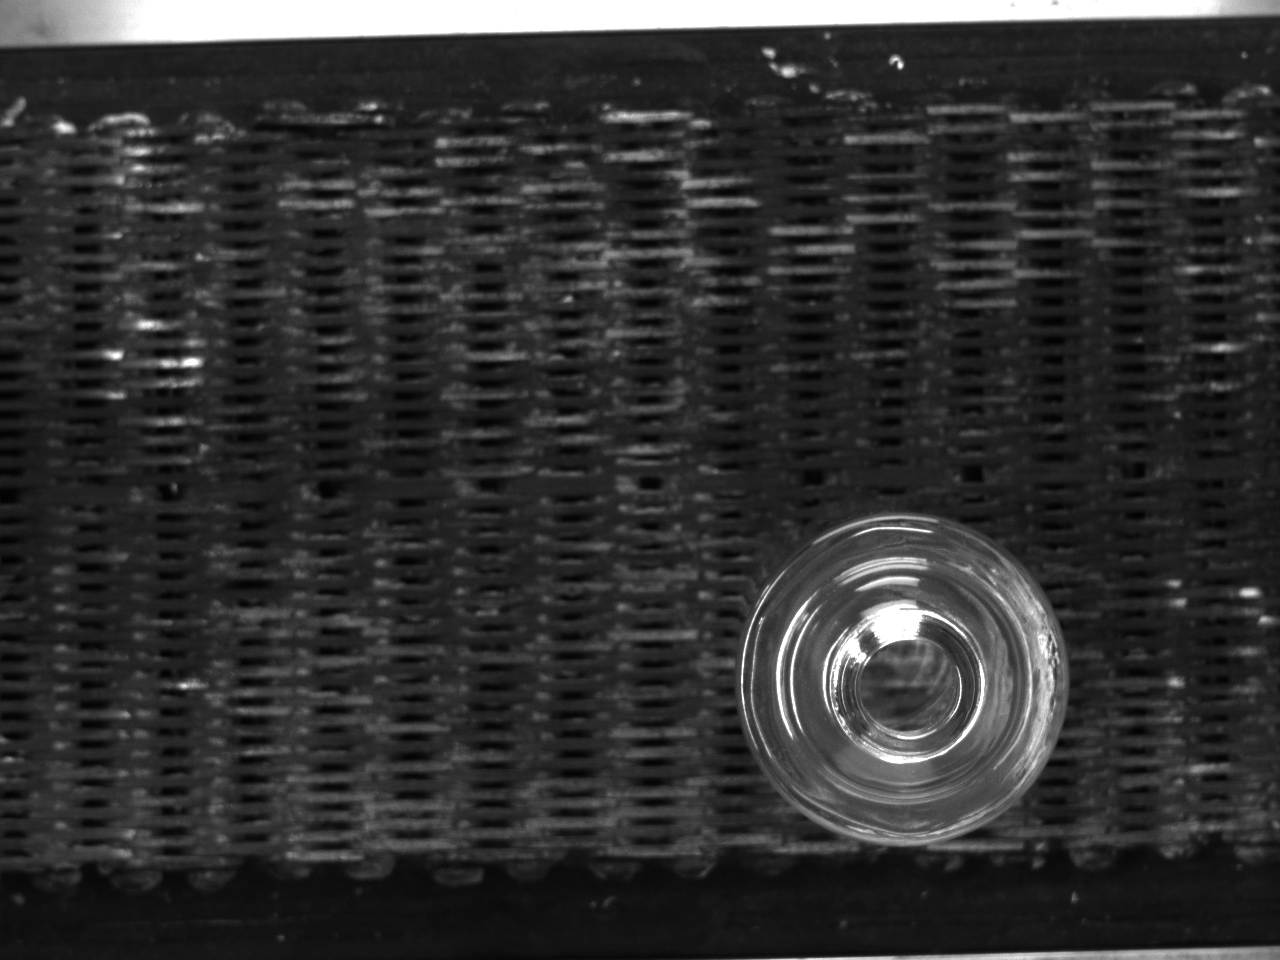bottleneck: (829, 606, 986, 762)
